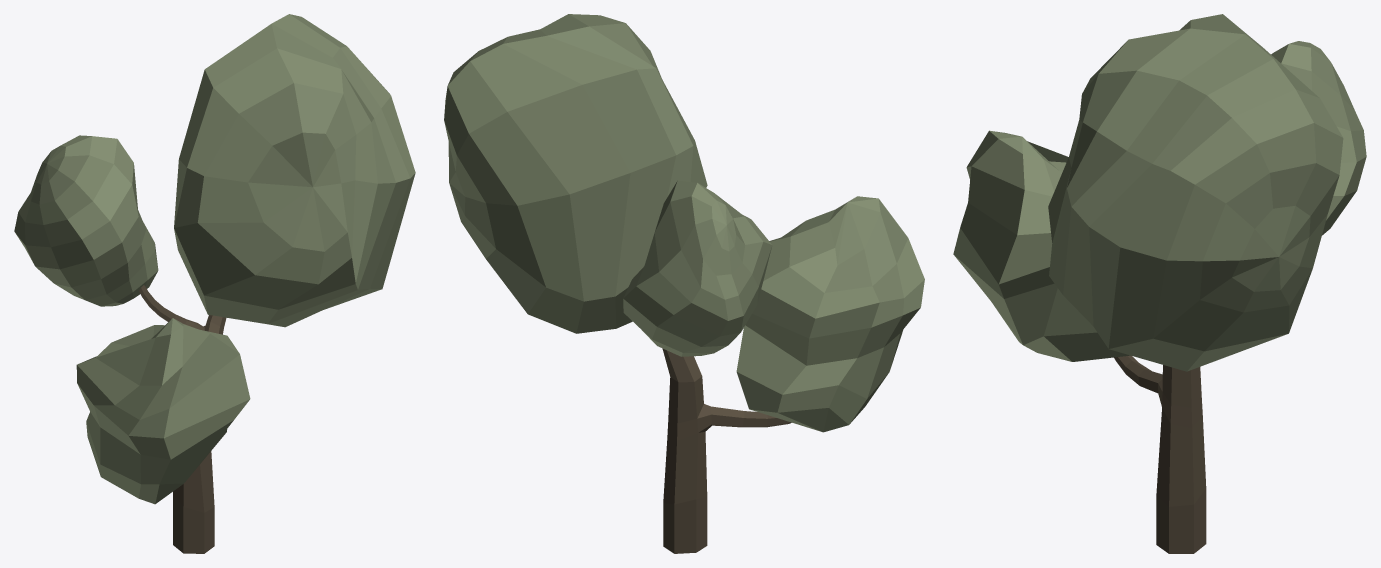
File: Tree1.fbx
3 renders of one model, left to right at view 1: azimuth 30°, elevation 25°; view 2: azimuth 150°, elevation 25°; view 3: azimuth 270°, elevation 25°, orthographic. The views are drawn at different scales.
Visible parts, largest first — view 1: Tree1; view 2: Tree1; view 3: Tree1.
Part boxes in pixels (x1=…): Tree1: x1=14, y1=14, x2=415, y2=553; Tree1: x1=444, y1=14, x2=924, y2=553; Tree1: x1=953, y1=14, x2=1366, y2=553.
Size of the model in its own units: 7.15 by 9.07 by 5.94.
